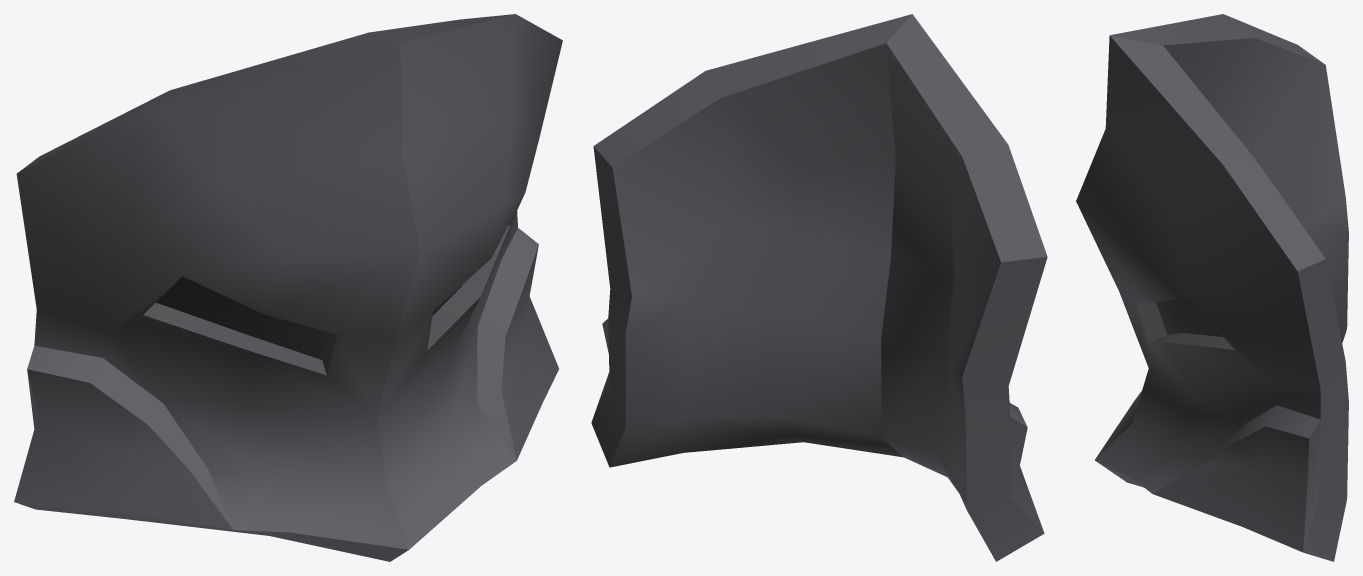
Rendered from Mask_4.fbx.
3 renders of one model, left to right at view 1: azimuth 30°, elevation 25°; view 2: azimuth 150°, elevation 25°; view 3: azimuth 270°, elevation 25°, orthographic. The views are drawn at different scales.
Visible parts, largest first — view 1: Mask_4; view 2: Mask_4; view 3: Mask_4.
Part boxes in pixels (left/top/right/bottom): Mask_4: left=14, top=14, right=562, bottom=561; Mask_4: left=591, top=14, right=1047, bottom=561; Mask_4: left=1076, top=14, right=1348, bottom=561.
Size of the model in its own units: 55.74 by 51.27 by 28.36.
